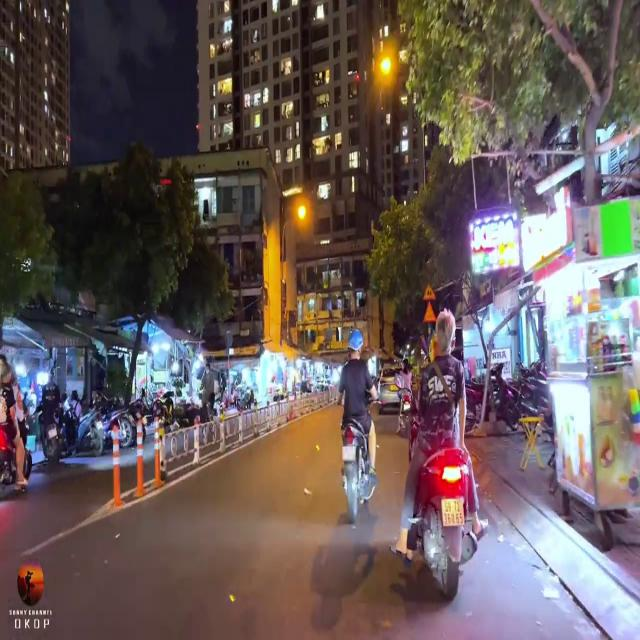bien_trang: (440, 498, 464, 532)
